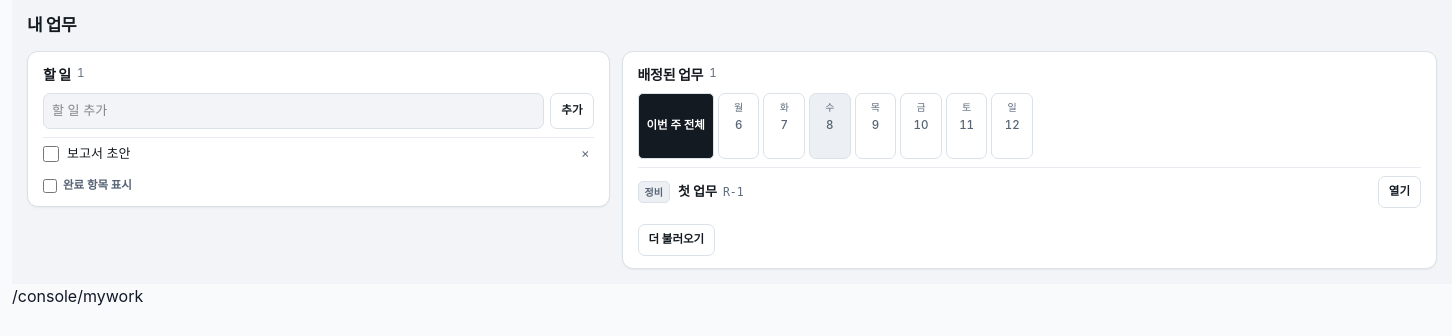
Test case: MyWorkBody › loads additional action-inbox pages only after an explicit user action
Expected: the text "첫 업무" is shown, x1=678 y1=182 x2=717 y2=202
Expected: the text "다음 업무" is not shown
Click the button "더 불러오기" at (676, 240), box x1=638 y1=224 x2=715 y2=256
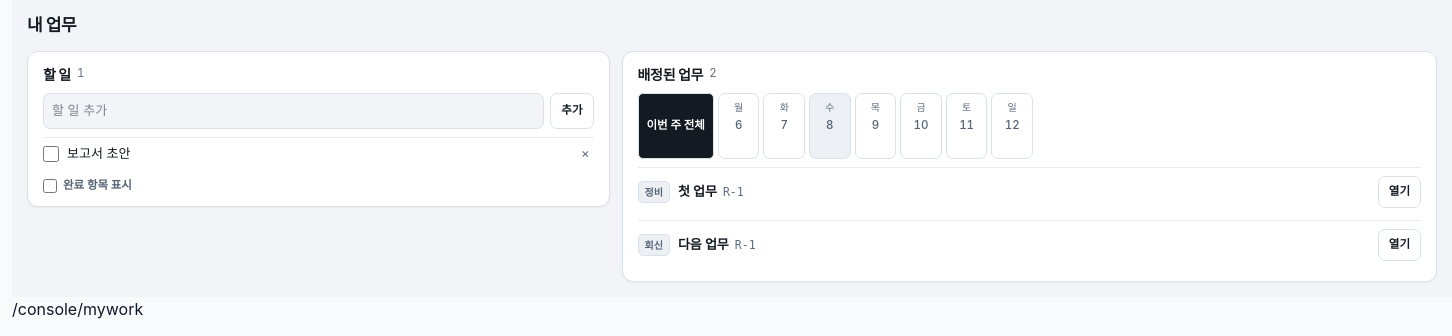
Expected: the text "다음 업무" is shown, x1=678 y1=235 x2=729 y2=254
Expected: the button "더 불러오기" is gone
